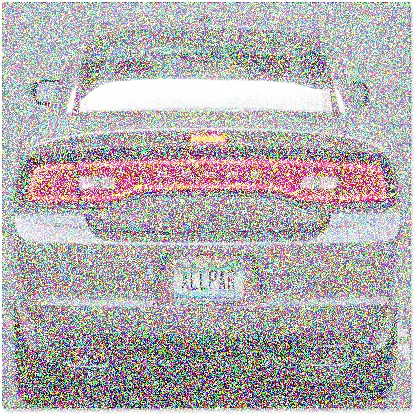Vehicle: (4, 5, 411, 414)
